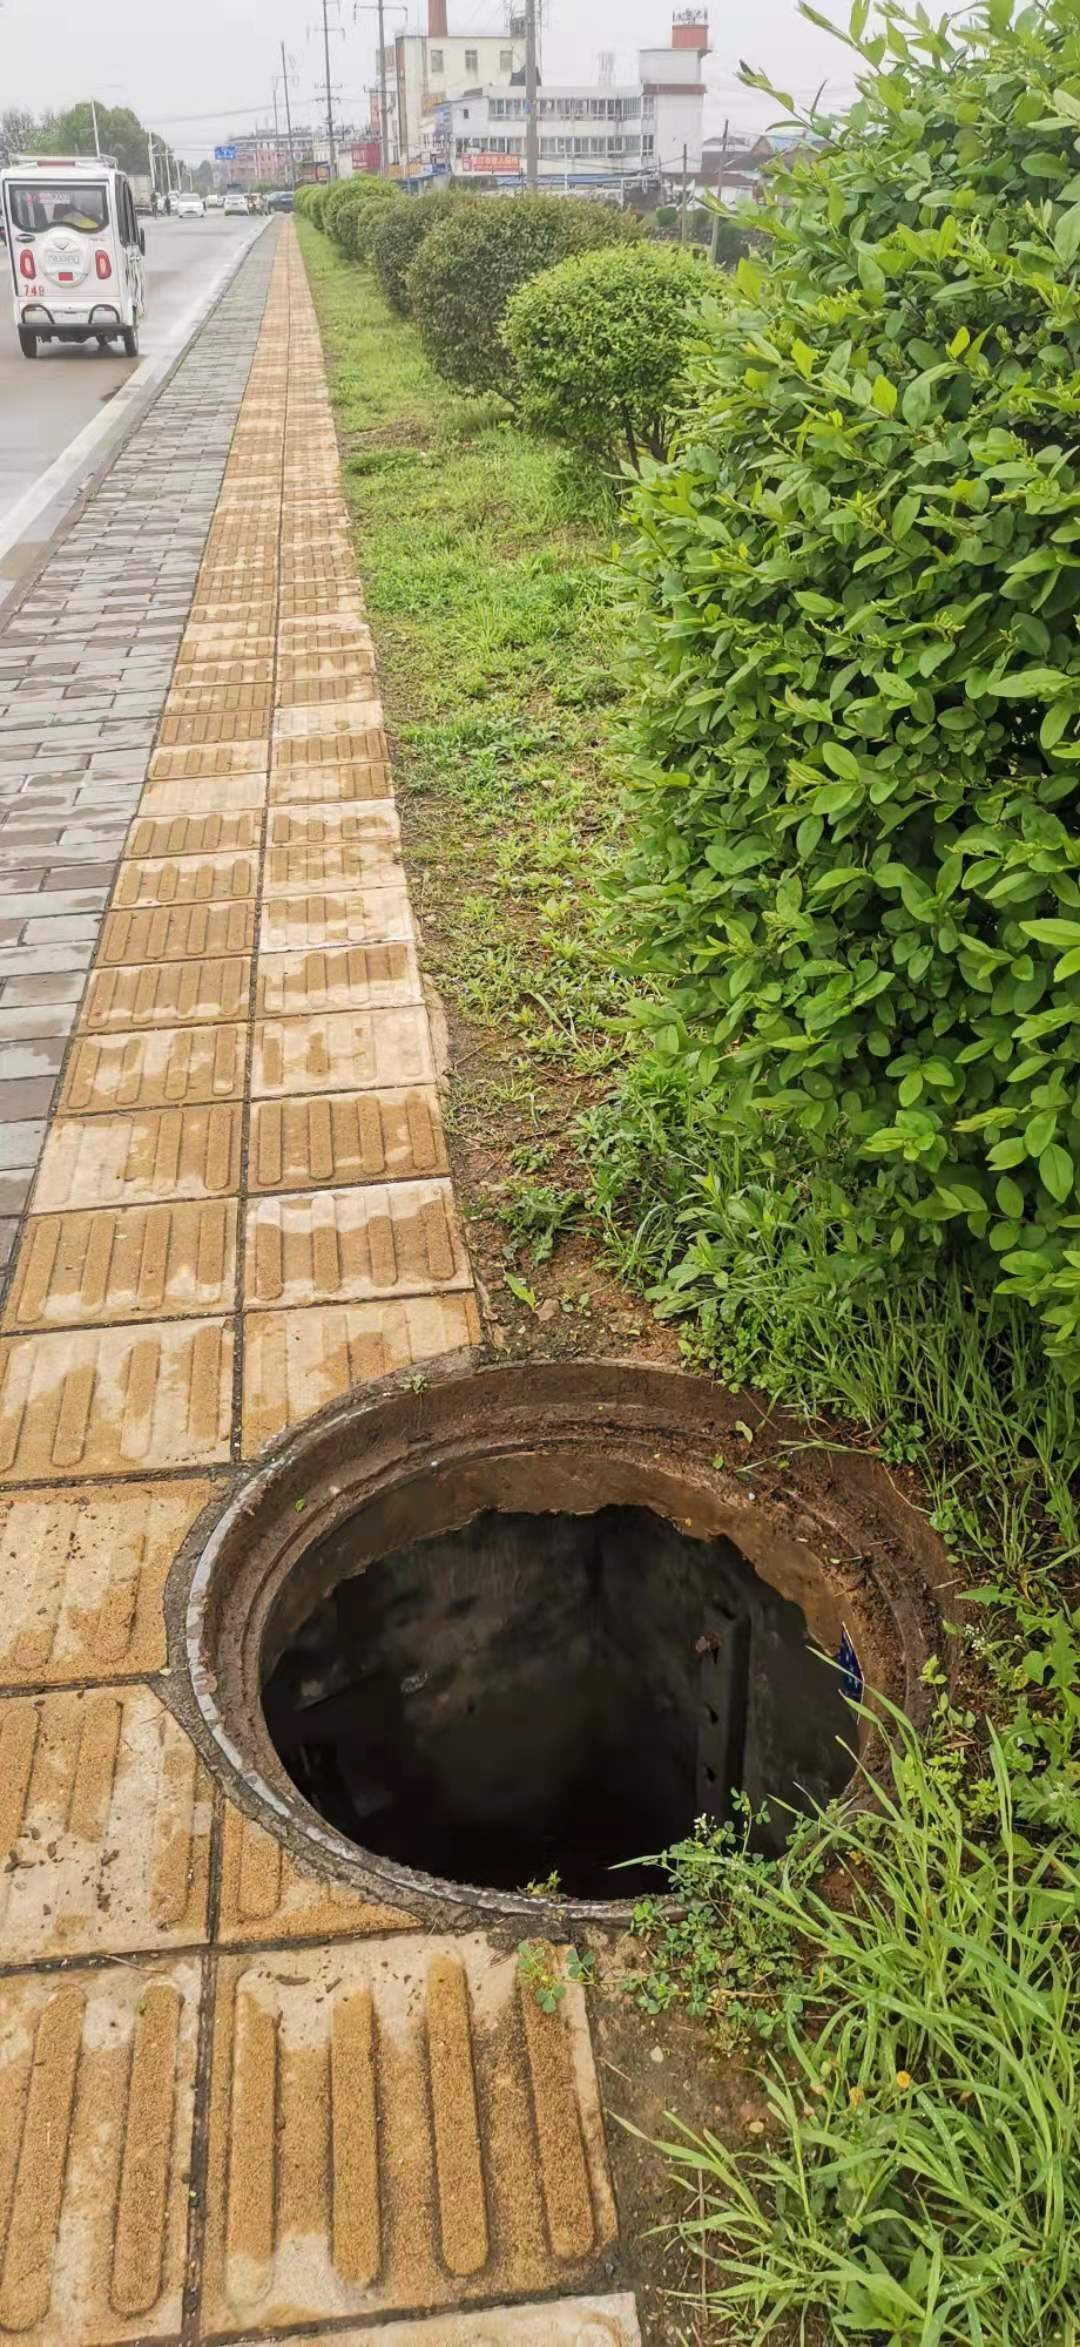lose: (175, 1352, 951, 1923)
